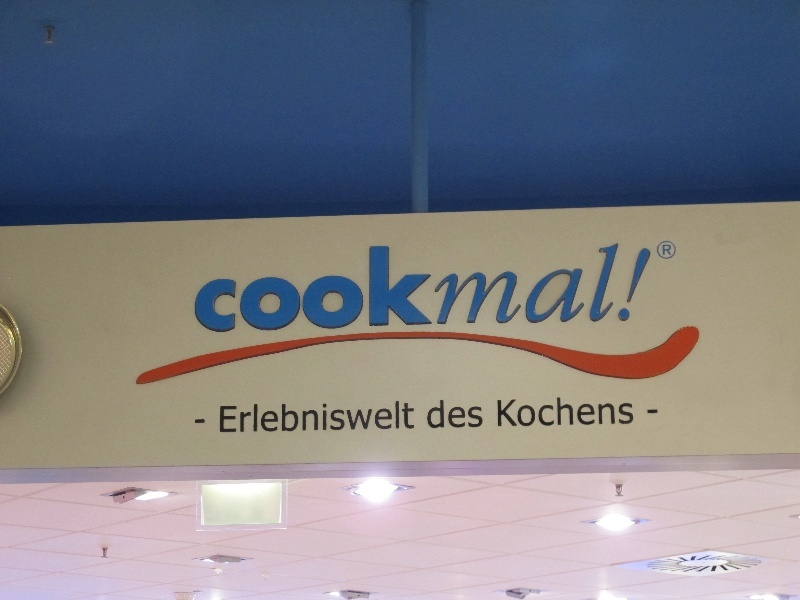text: (193, 245, 208, 334), (209, 245, 224, 334), (225, 245, 240, 334), (241, 245, 256, 334), (257, 245, 272, 334), (273, 245, 288, 334), (289, 245, 304, 334), (305, 245, 320, 334), (321, 245, 336, 334), (337, 245, 352, 334), (353, 245, 368, 334), (369, 245, 384, 334), (385, 245, 400, 334), (401, 245, 416, 334), (417, 245, 432, 334), (433, 245, 448, 334), (449, 245, 464, 334), (465, 245, 480, 334), (481, 245, 496, 334), (497, 245, 512, 334), (513, 245, 528, 334), (529, 245, 544, 334), (545, 245, 560, 334), (561, 245, 576, 334), (577, 245, 592, 334), (593, 245, 608, 334), (609, 245, 624, 334), (625, 245, 640, 334), (641, 245, 654, 334), (225, 401, 240, 434), (241, 401, 256, 434), (257, 401, 272, 434), (273, 401, 288, 434), (289, 401, 304, 434), (305, 401, 320, 434), (321, 401, 336, 434), (337, 401, 352, 434), (353, 401, 368, 434), (369, 401, 384, 434), (385, 401, 400, 434), (433, 398, 448, 429), (449, 398, 464, 429), (465, 398, 480, 429), (497, 396, 512, 427), (513, 396, 528, 427), (529, 396, 544, 427), (545, 396, 560, 427), (561, 396, 576, 427), (577, 396, 592, 427), (593, 396, 608, 427), (609, 396, 624, 427), (401, 401, 415, 434), (188, 245, 192, 334), (625, 396, 634, 427), (220, 401, 224, 434), (662, 245, 672, 256), (429, 398, 432, 429), (195, 419, 208, 424), (481, 398, 483, 429), (647, 409, 656, 414), (657, 409, 658, 414)
